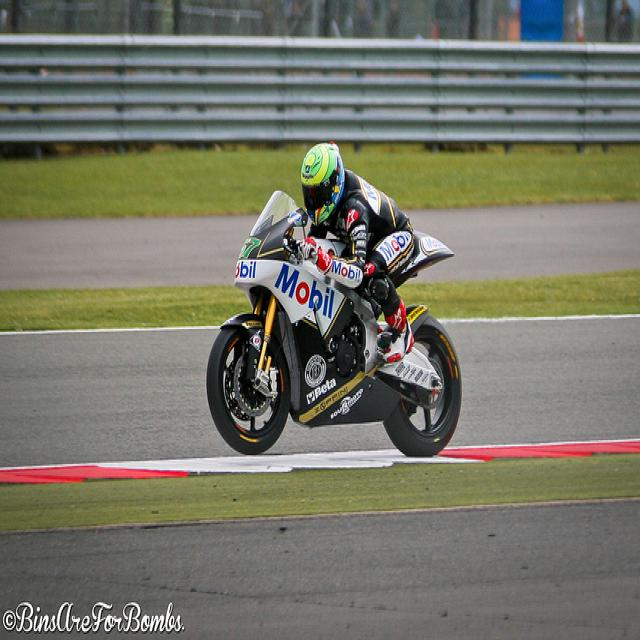motor: (211, 150, 464, 458)
